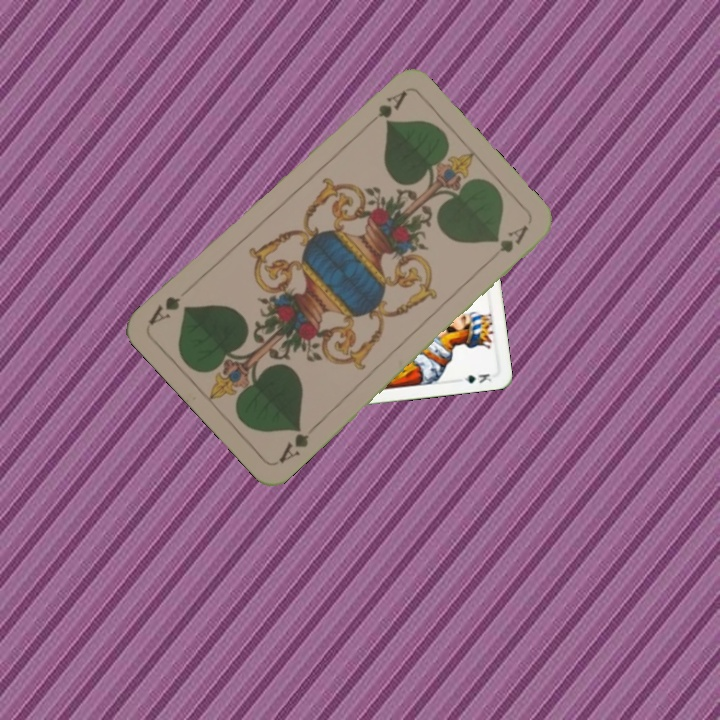GA: (274, 420, 321, 466), (373, 87, 410, 121)
